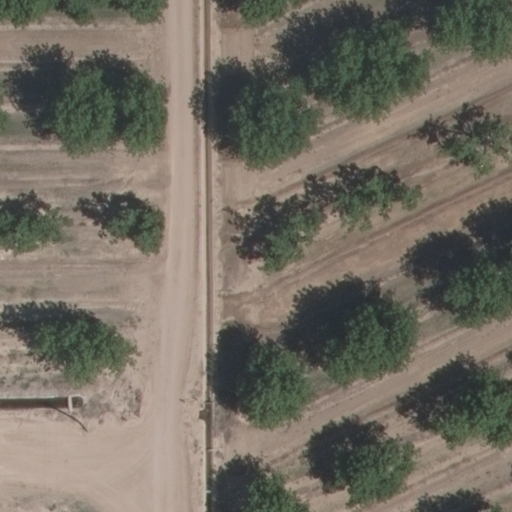DT: (70, 413, 91, 437)
